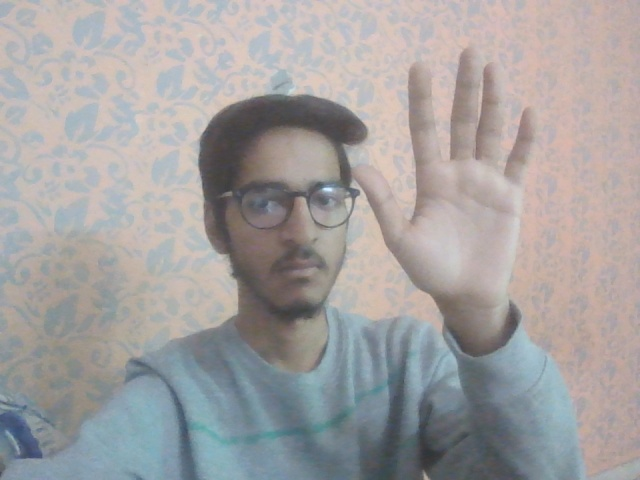Hello: (349, 42, 548, 318)
